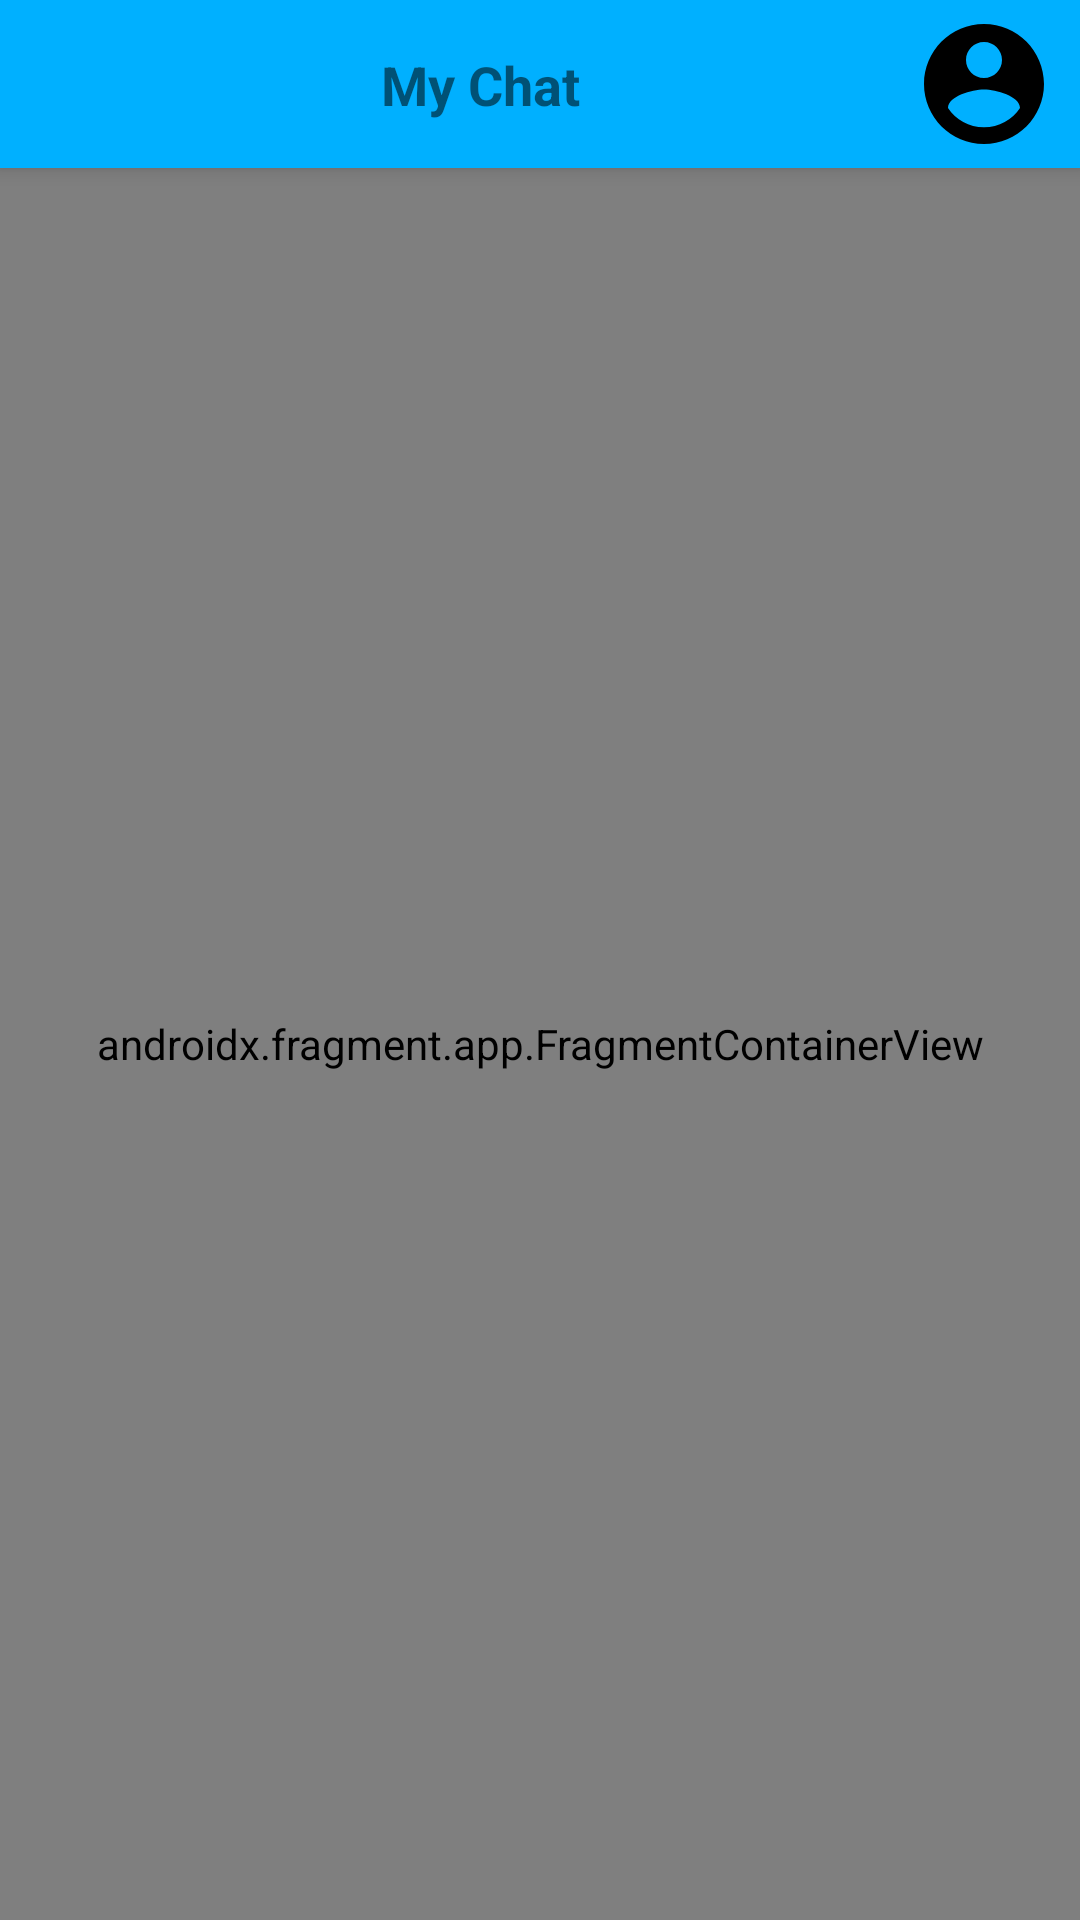

Named icons in this screenshot (1080x1920) and their bounding boxes, region(x1, y1, x2, y2):
account circle: region(924, 24, 1044, 144)
